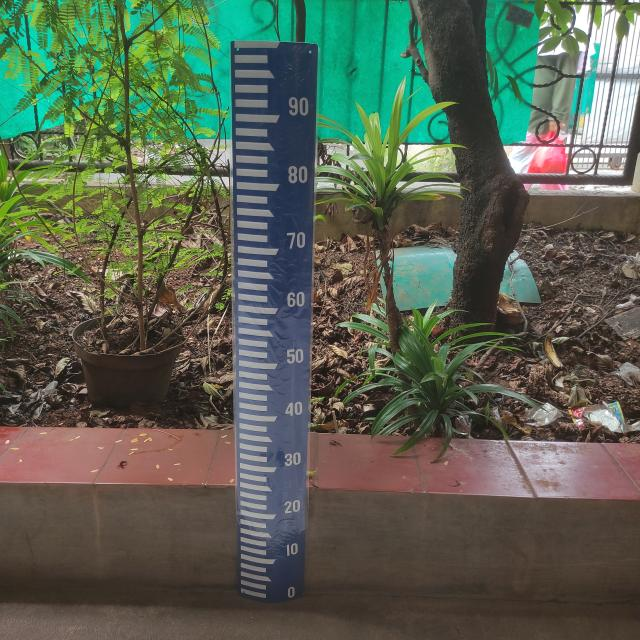ruler: (223, 27, 330, 616)
value: (282, 95, 316, 122), (283, 161, 313, 188), (281, 228, 311, 255), (280, 397, 309, 421), (278, 448, 308, 471), (281, 287, 309, 311), (280, 346, 309, 368), (279, 497, 306, 518), (282, 539, 303, 559), (282, 583, 302, 602)
